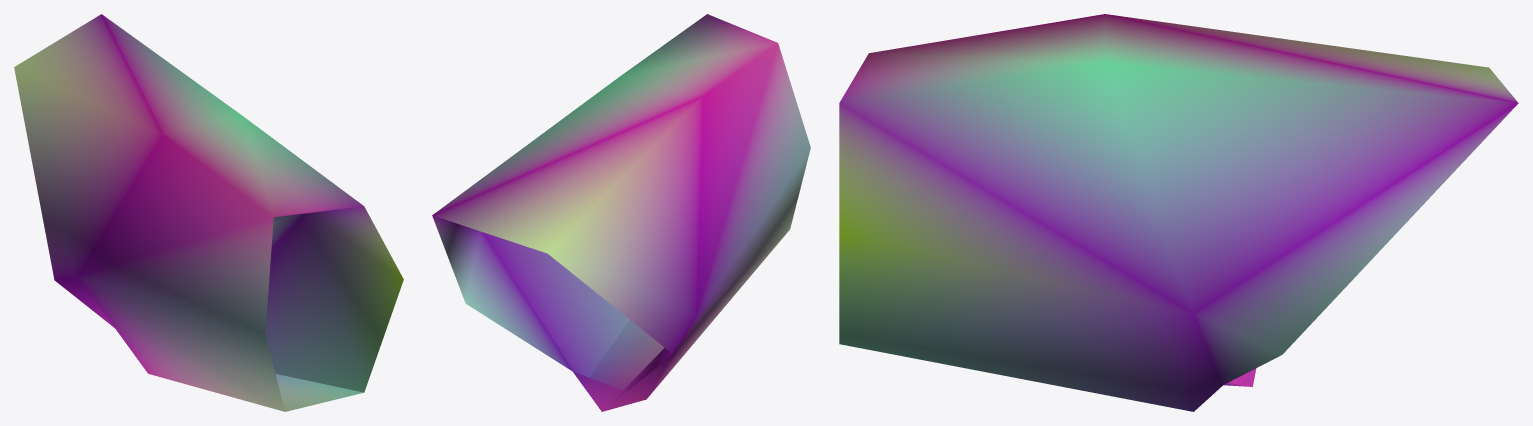
3 renders of one model, left to right at view 1: azimuth 30°, elevation 25°; view 2: azimuth 150°, elevation 25°; view 3: azimuth 270°, elevation 25°, orthographic. The views are drawn at different scales.
Parts seen in each view (by area): view 1: part; view 2: part; view 3: part.
Part boxes in pixels (x1,y1,x2,y2): part: (14,14,403,411); part: (432,14,810,411); part: (839,14,1518,411).
Size of the model in its own units: 11 by 13 by 23.
